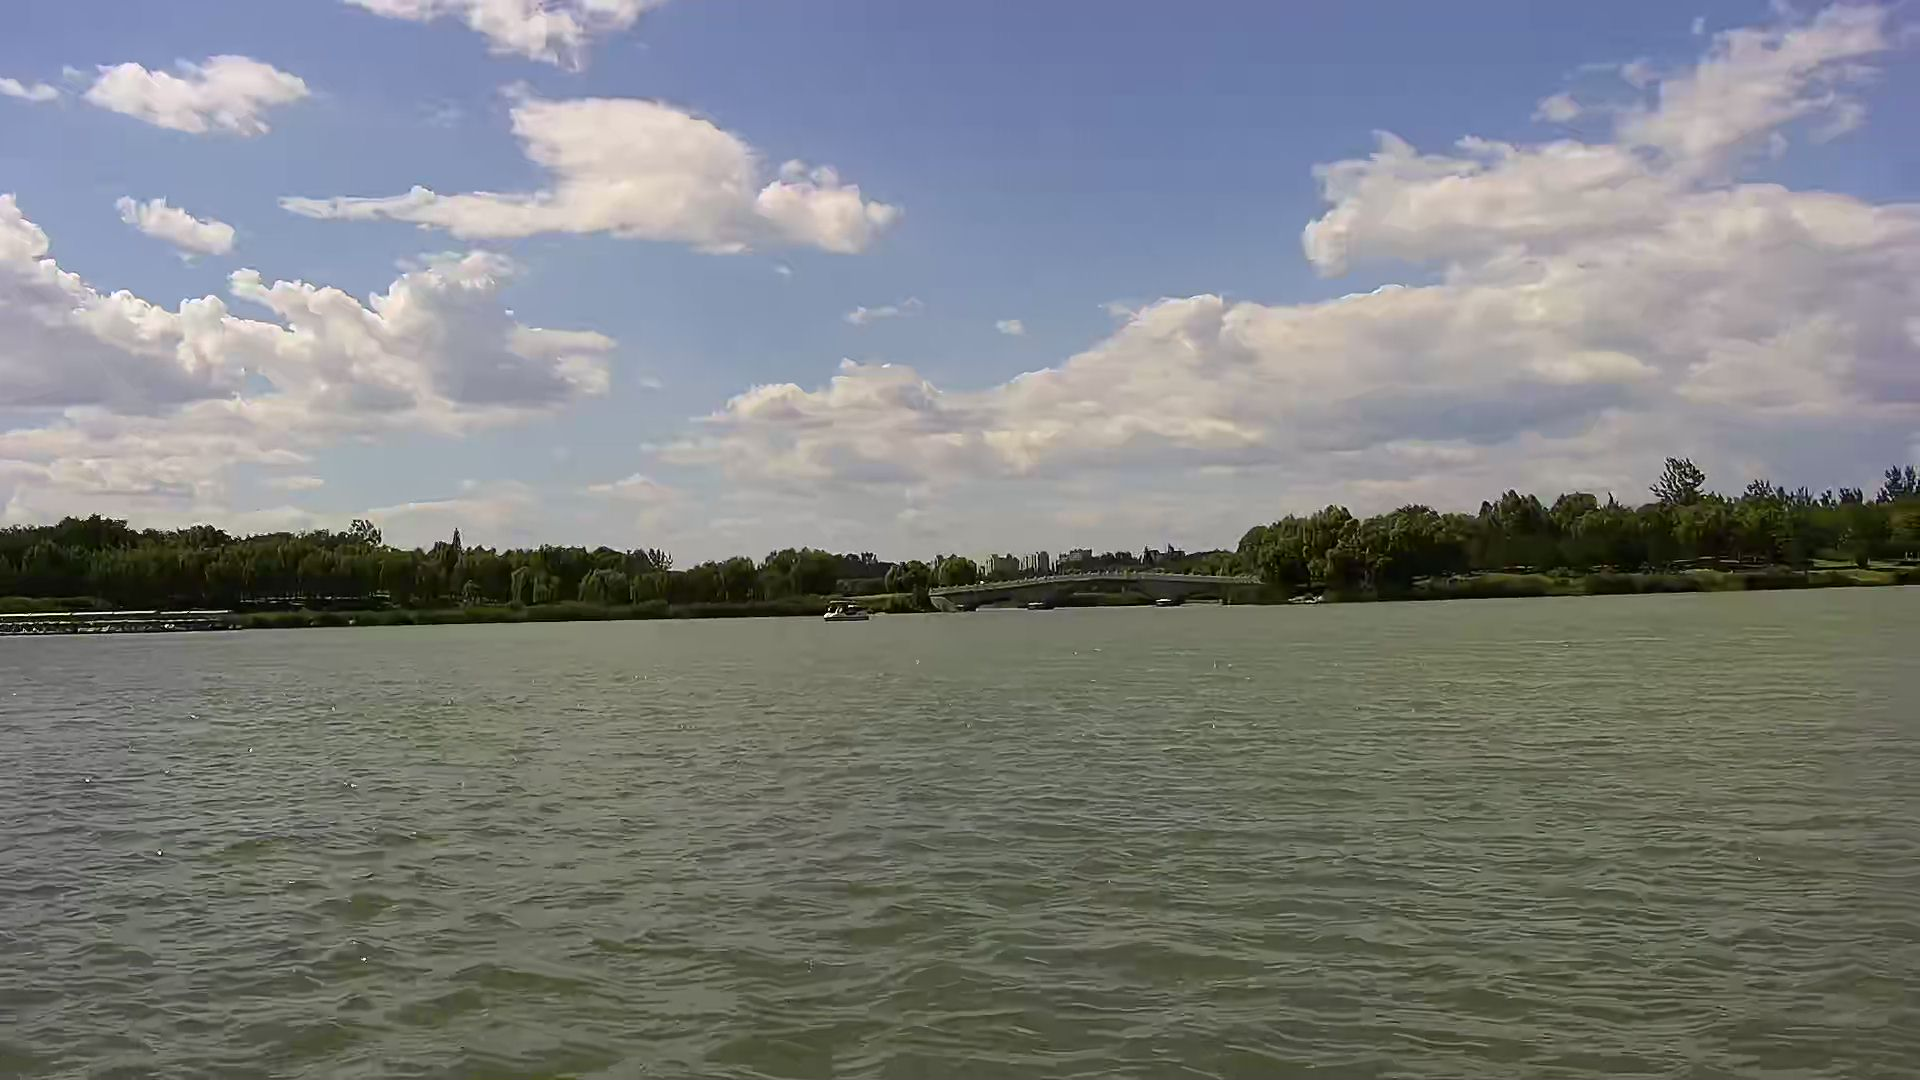boat: (822, 599, 870, 625)
bridge: (934, 570, 1270, 608)
harbor: (12, 609, 233, 637)
